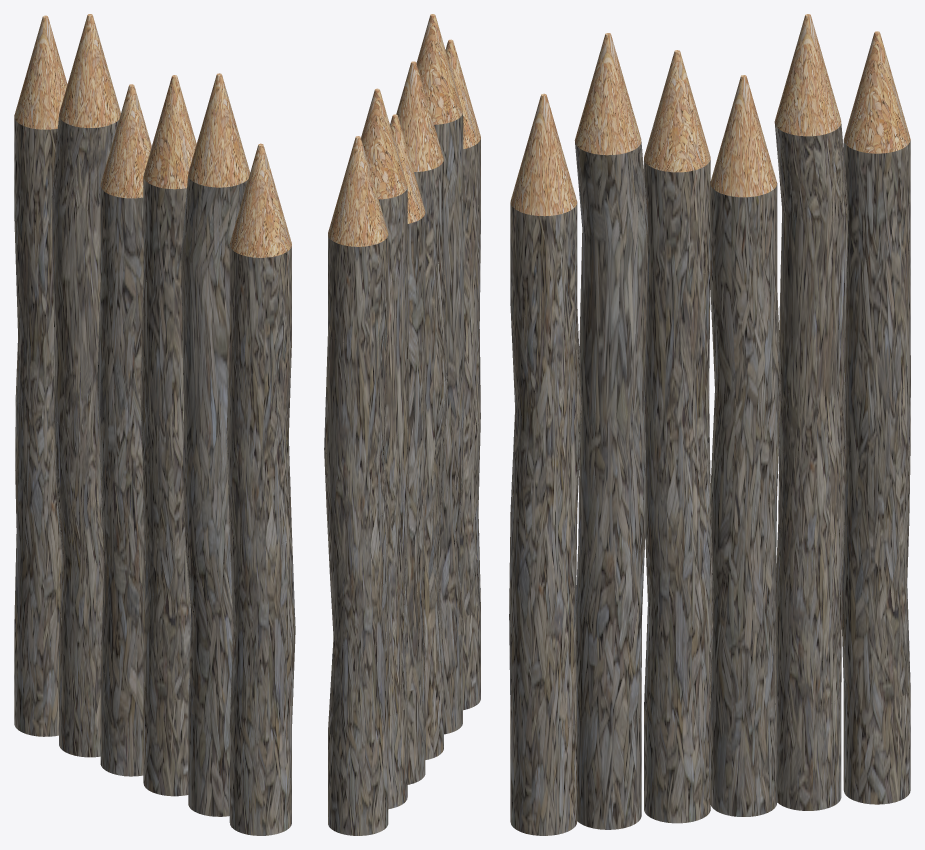
File: Fence.fbx
3 renders of one model, left to right at view 1: azimuth 30°, elevation 25°; view 2: azimuth 150°, elevation 25°; view 3: azimuth 270°, elevation 25°, orthographic. The views are drawn at different scales.
Visible parts, largest first — view 1: Cylinder.005-0, Cylinder.005-1; view 2: Cylinder.005-0, Cylinder.005-1; view 3: Cylinder.005-0, Cylinder.005-1.
Boxes of the visible parts, x1,y1,x2,y2 form: Cylinder.005-0: [14, 116, 295, 835]; Cylinder.005-1: [14, 14, 291, 257]; Cylinder.005-0: [324, 113, 480, 835]; Cylinder.005-1: [328, 14, 480, 246]; Cylinder.005-0: [509, 124, 910, 835]; Cylinder.005-1: [510, 14, 910, 216].
Size of the model in its own units: 0.3499 by 2.08 by 0.9703.
Materials: 2 (2 with a texture image).
